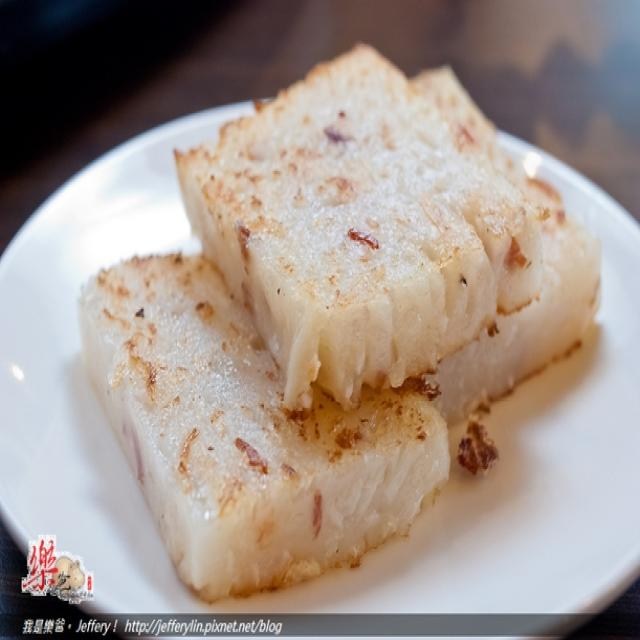蛋糕甜品: (40, 47, 621, 618)
